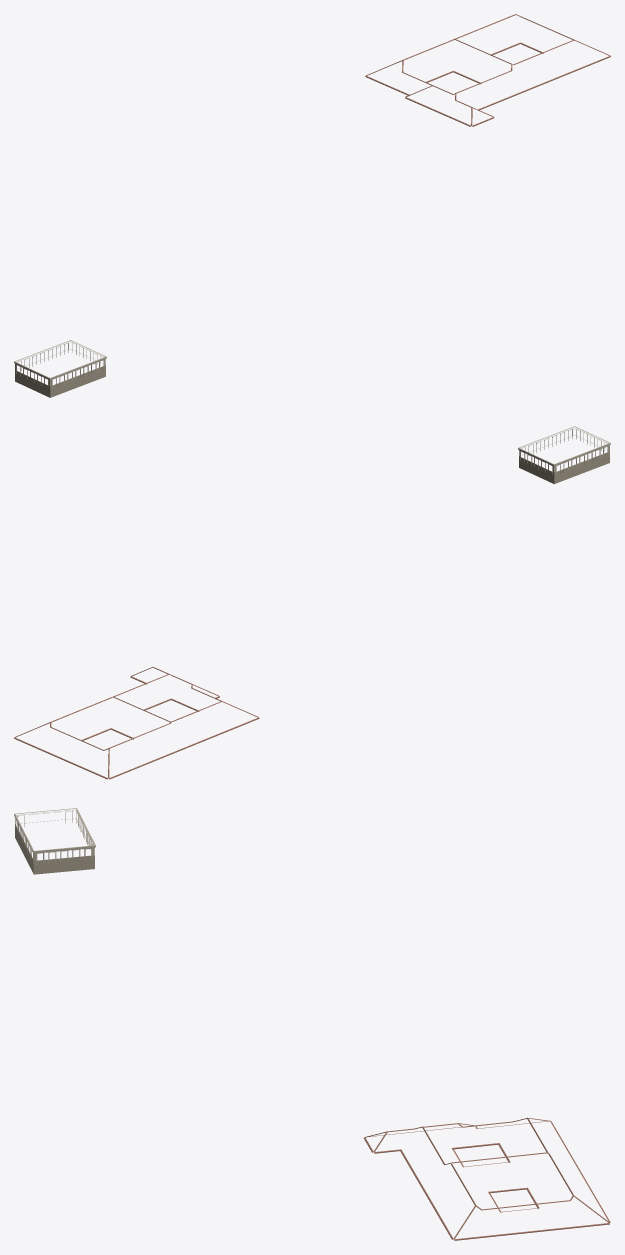
The picture shows the model from 3 angles, top to bottom: view 1: azimuth 30°, elevation 25°; view 2: azimuth 210°, elevation 25°; view 3: azimuth 270°, elevation 25°; orthographic projection. The views are drawn at different scales.
Parts seen in each view (by area): view 1: detail; view 2: detail; view 3: detail.
Part boxes in pixels (x1,y1,x2,y2): detail: [14, 14, 610, 397]; detail: [14, 426, 610, 779]; detail: [14, 808, 610, 1240].
Size of the model in its own units: 213 by 11.33 by 122.
